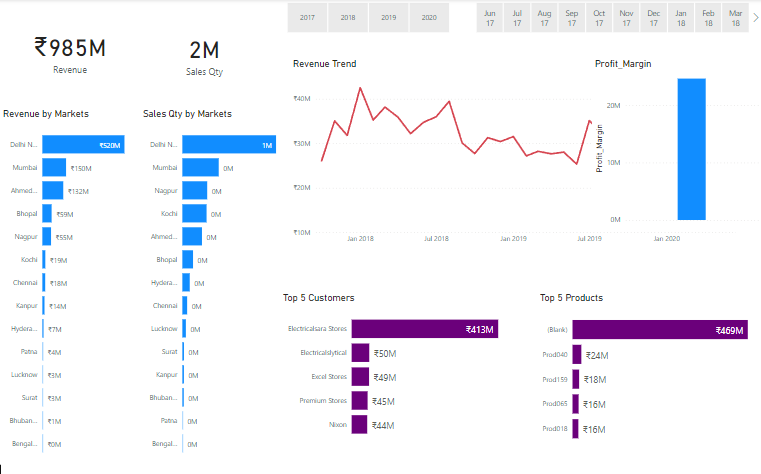

Layout of this report page (visuals, bound fields, positions):
{"tool":"powerbi","page":{"name":"Key Insights","canvas":[1350,850],"ordinal":0},"visuals":[{"type":"card","fields":{"Values":["BaseMeasures (2).Revenue"]},"box":[0,0,247.9,184.6],"z":0},{"type":"card","fields":{"Values":["BaseMeasures (2).Sales Qty"]},"box":[247.9,0,227.9,193.1],"z":1000},{"type":"barChart","title":"Revenue by Markets","fields":{"Y":["BaseMeasures (2).Revenue"],"Category":["sales markets.markets_name"]},"box":[0,193.1,247.9,631.9],"z":2000},{"type":"barChart","title":"Sales Qty by Markets","fields":{"Y":["BaseMeasures (2).Sales Qty"],"Category":["sales markets.markets_name"]},"box":[247.9,193.1,247.9,631.9],"z":3000},{"type":"slicer","fields":{"Values":["sales date.year"]},"box":[483.2,0,335.5,66.5],"z":4000},{"type":"slicer","fields":{"Values":["sales date.cy_date"]},"box":[818.6,0,531.7,66.5],"z":5000},{"type":"barChart","title":"Top 5 Customers","fields":{"Y":["BaseMeasures (2).Revenue"],"Category":["sales customers.custmer_name"]},"box":[495.8,519,446.2,274.3],"z":6000},{"type":"barChart","title":"Top 5 Products","fields":{"Y":["BaseMeasures (2).Revenue"],"Category":["sales products.product_code"]},"box":[950.7,519.2,399.5,282.8],"z":7000},{"type":"lineChart","title":"Revenue Trend","fields":{"Y":["BaseMeasures (2).Revenue"],"Category":["sales date.cy_date"]},"box":[513.8,104.4,809.1,338.6],"z":8000},{"type":"clusteredColumnChart","fields":{"Y":["Sum(Sales transactions.Profit_Margin)"]},"box":[100,100,300,300],"z":8001}]}

Visuals, with their boxes in screenshot pixels (x1, y1, x2, y2), scaled from the page's 1350x850 canvas onto the 761x474 screenshot:
card - BaseMeasures (2).Revenue: pyautogui.locateOnScreen(0, 0, 140, 103)
card - BaseMeasures (2).Sales Qty: pyautogui.locateOnScreen(140, 0, 268, 108)
"Revenue by Markets" barChart: pyautogui.locateOnScreen(0, 108, 140, 460)
"Sales Qty by Markets" barChart: pyautogui.locateOnScreen(140, 108, 279, 460)
slicer - sales date.year: pyautogui.locateOnScreen(272, 0, 462, 37)
slicer - sales date.cy_date: pyautogui.locateOnScreen(461, 0, 760, 37)
"Top 5 Customers" barChart: pyautogui.locateOnScreen(279, 289, 531, 442)
"Top 5 Products" barChart: pyautogui.locateOnScreen(536, 290, 760, 447)
"Revenue Trend" lineChart: pyautogui.locateOnScreen(290, 58, 746, 247)
clusteredColumnChart - Sum(Sales transactions.Profit_Margin): pyautogui.locateOnScreen(56, 56, 225, 223)
